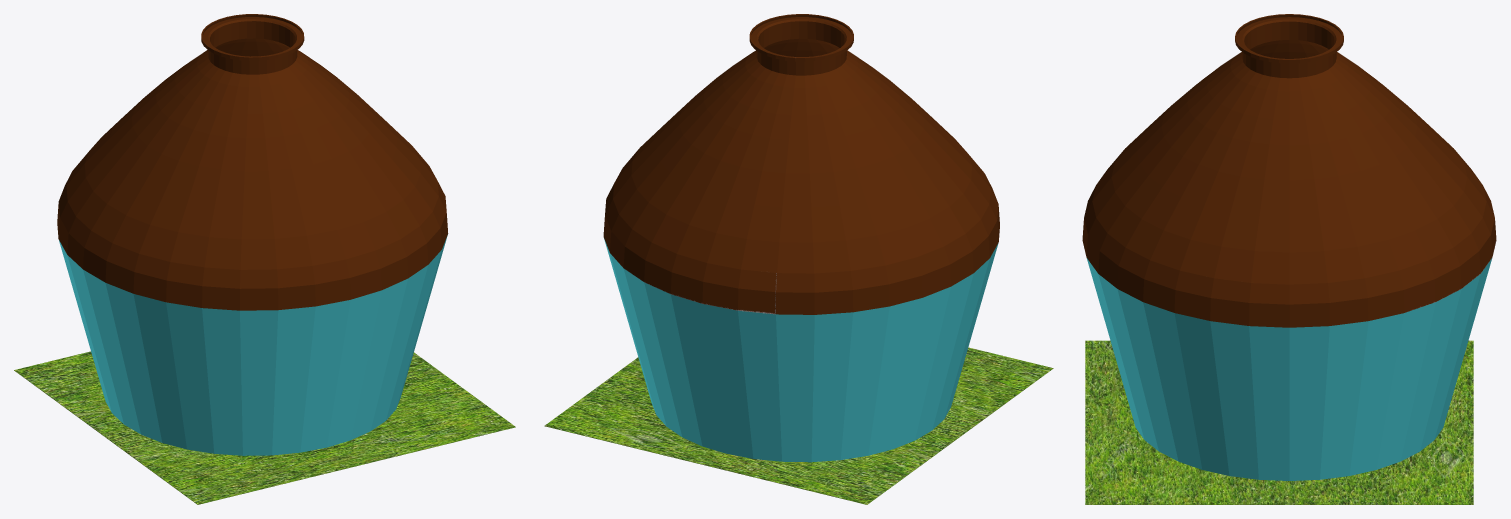
The model's file is matka_3.obj.
3 renders of one model, left to right at view 1: azimuth 30°, elevation 25°; view 2: azimuth 150°, elevation 25°; view 3: azimuth 270°, elevation 25°, orthographic. The views are drawn at different scales.
Parts seen in each view (by area): view 1: Circle, Cube; view 2: Circle, Cube; view 3: Circle, Cube.
Boxes of the visible parts, left/top/right/bottom form: Circle: left=57, top=14, right=448, bottom=455; Cube: left=14, top=351, right=515, bottom=504; Circle: left=603, top=14, right=999, bottom=462; Cube: left=544, top=347, right=1053, bottom=504; Circle: left=1082, top=14, right=1496, bottom=480; Cube: left=1085, top=340, right=1473, bottom=504.
Bounding box in the file's own units: 0.8469 × 0.8622 × 0.8469.
2 materials, 2 textured.
